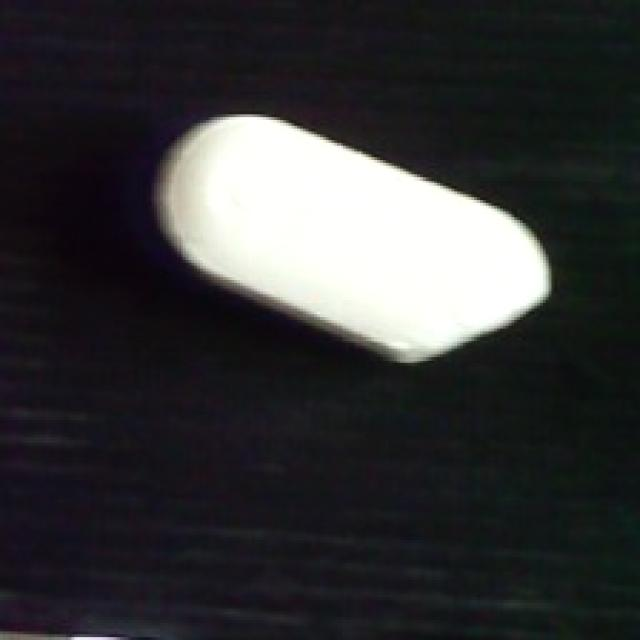defected: (149, 114, 554, 374)
